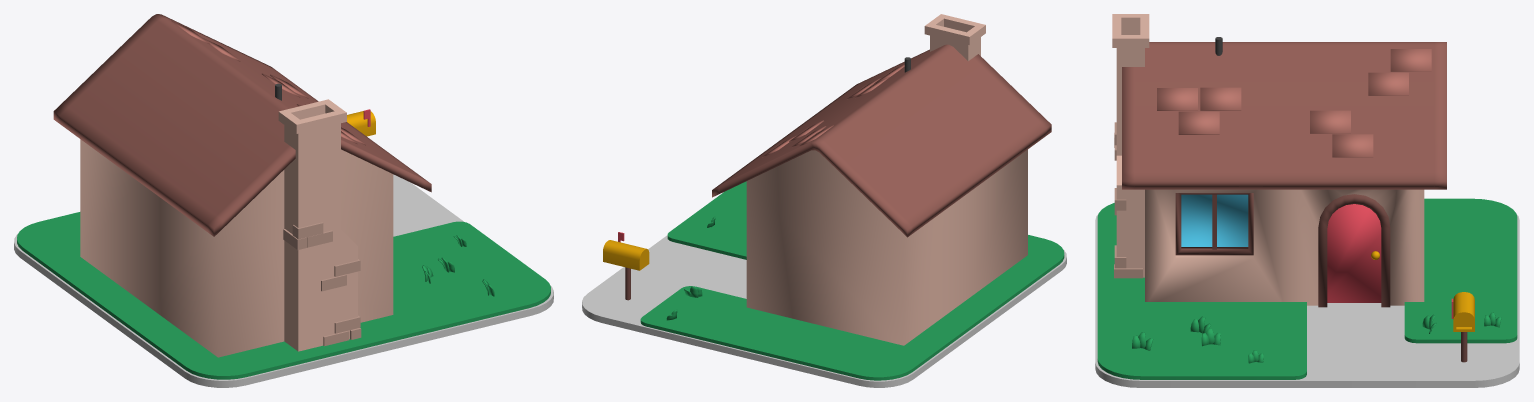
File: 3d_viridis_house.glb
3 views of the same model, side by side, from view 1: azimuth 30°, elevation 25°; view 2: azimuth 150°, elevation 25°; view 3: azimuth 270°, elevation 25° (orthographic). The views are drawn at different scales.
Visible parts, largest first — view 1: House, Roof, Grass.001, Chimney, Ground, Cube.008; view 2: House, Roof, Grass.001, Ground, Chimney, Cube.008; view 3: Roof, Grass.001, House, Ground, Door, Chimney, Door Frame, Window, Shingle.001, Shingle.002, Shingle.004, Shingle.003 (+4 smaller).
Boxes of the visible parts, <box> form: House: <box>80,139,393,357</box>; Roof: <box>53,14,431,236</box>; Grass.001: <box>17,212,550,379</box>; Chimney: <box>278,99,357,351</box>; Ground: <box>14,174,553,387</box>; Cube.008: <box>347,111,375,136</box>; House: <box>746,149,1027,345</box>; Roof: <box>712,44,1051,237</box>; Grass.001: <box>640,181,1064,380</box>; Ground: <box>582,235,1066,387</box>; Chimney: <box>924,14,985,61</box>; Cube.008: <box>603,240,649,270</box>; Roof: <box>1122,42,1446,189</box>; Grass.001: <box>1097,198,1517,379</box>; House: <box>1145,189,1424,305</box>; Ground: <box>1095,214,1519,387</box>; Door: <box>1327,204,1381,302</box>; Chimney: <box>1112,14,1149,277</box>; Door Frame: <box>1318,194,1390,307</box>; Window: <box>1175,193,1253,255</box>; Shingle.001: <box>1200,87,1241,110</box>; Shingle.002: <box>1178,111,1219,134</box>; Shingle.004: <box>1332,134,1373,157</box>; Shingle.003: <box>1310,110,1350,133</box>.
Bounding box in the file's own units: 8 × 5.05 × 8.
